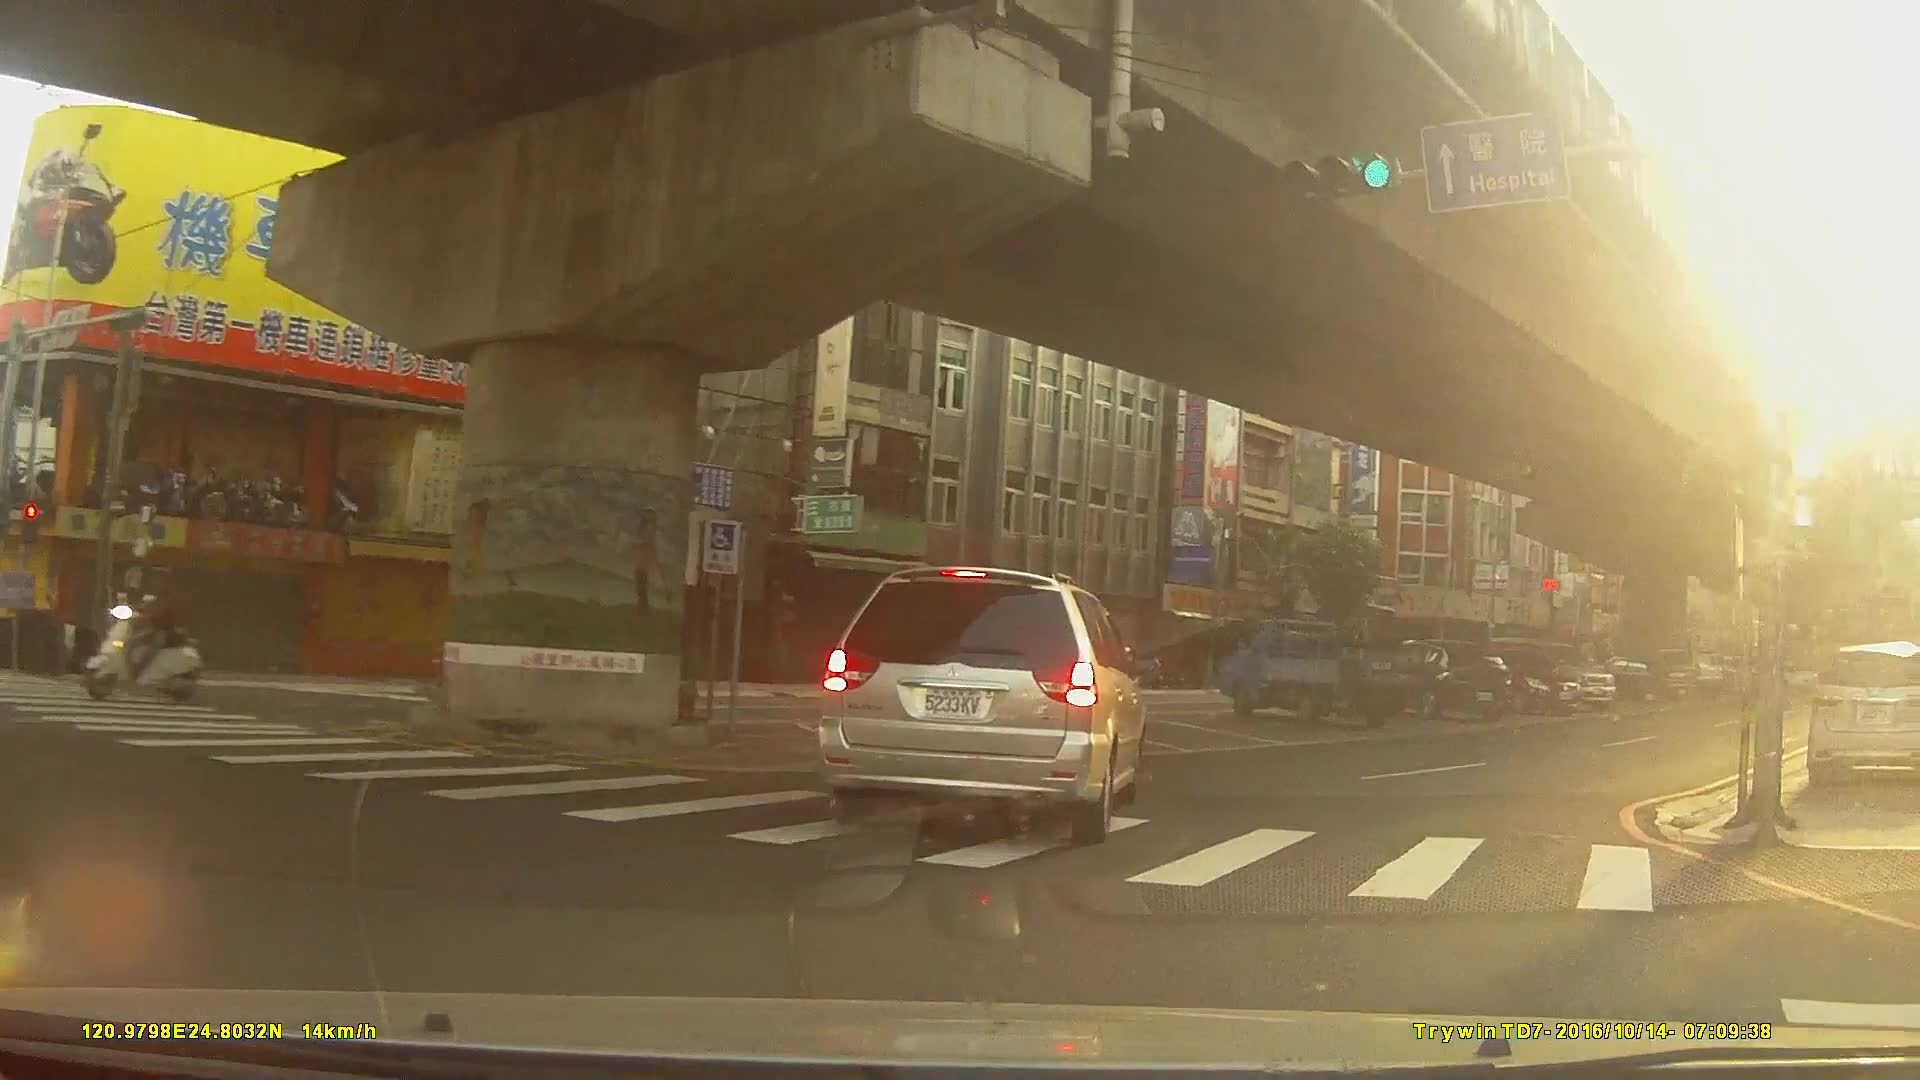rider: (82, 565, 206, 705)
vehicle: (813, 563, 1147, 846), (1212, 613, 1424, 725), (1807, 638, 1920, 787), (1376, 634, 1514, 718), (1457, 646, 1585, 716), (1580, 656, 1666, 702)
